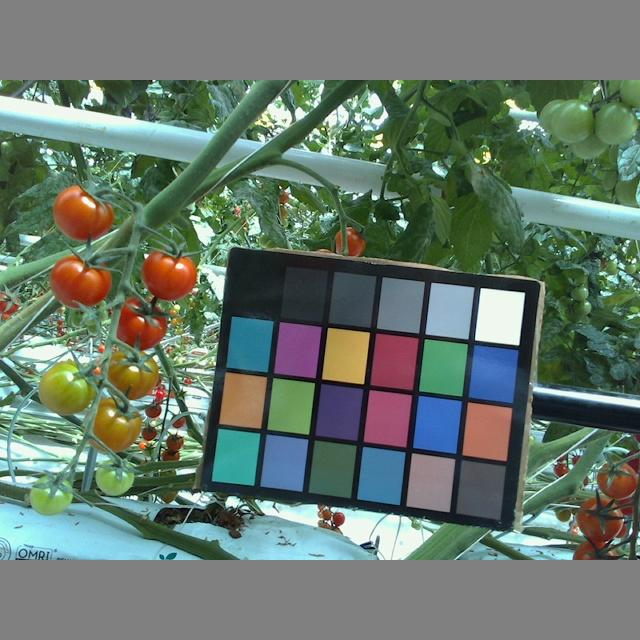green: (35, 361, 95, 415), (549, 99, 595, 146), (26, 473, 72, 519), (594, 100, 640, 145), (94, 461, 135, 497)
pink: (49, 255, 113, 310), (52, 186, 115, 241), (83, 399, 143, 454), (139, 249, 197, 302), (104, 347, 159, 402), (111, 296, 166, 348), (576, 495, 625, 543), (595, 461, 639, 499)
